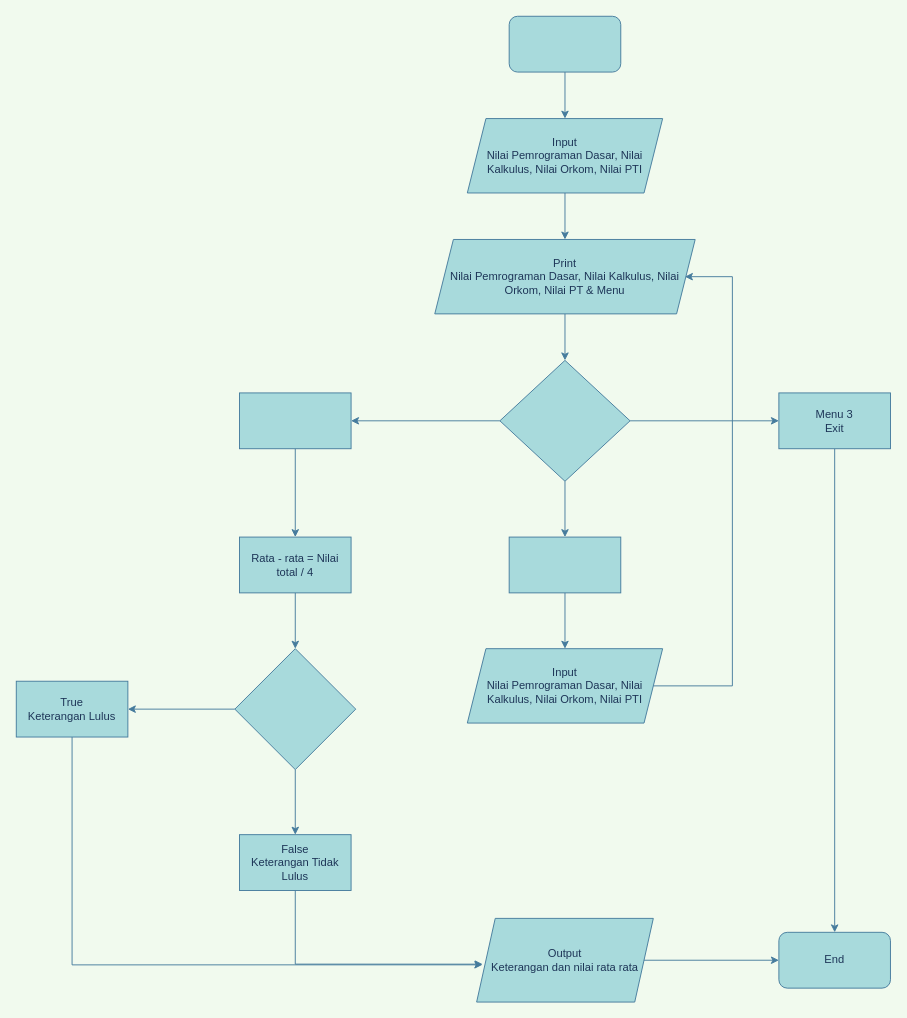
Image size: 907x1018. Some labels were removed from this diagram. Here are the shapes that lost their labels. From the top down, the centre of each, then its label:
the point at 564,43: Start
the point at 295,420: Menu 1 Melihat status kelulusan
the point at 564,420: Switch Menu
the point at 564,564: Menu 2 Merubah nilai
the point at 295,709: If Rata rata >= 75
